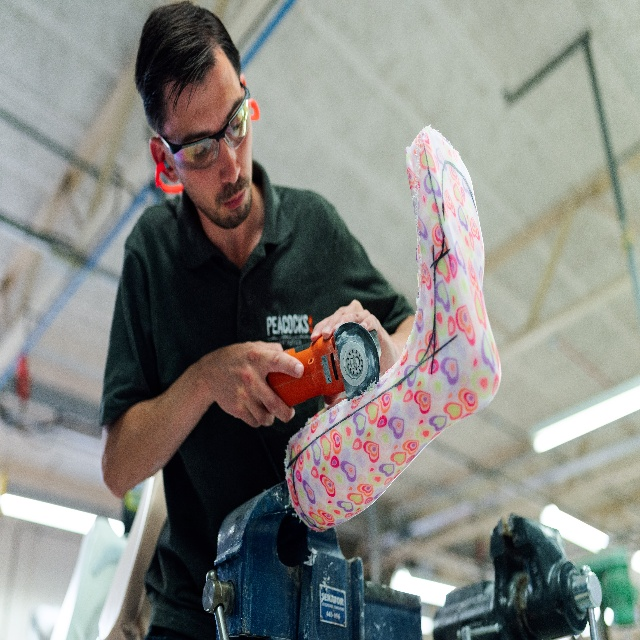Gafas: (155, 82, 250, 172)
Sin_guantes: (310, 300, 397, 404), (207, 341, 305, 429)
